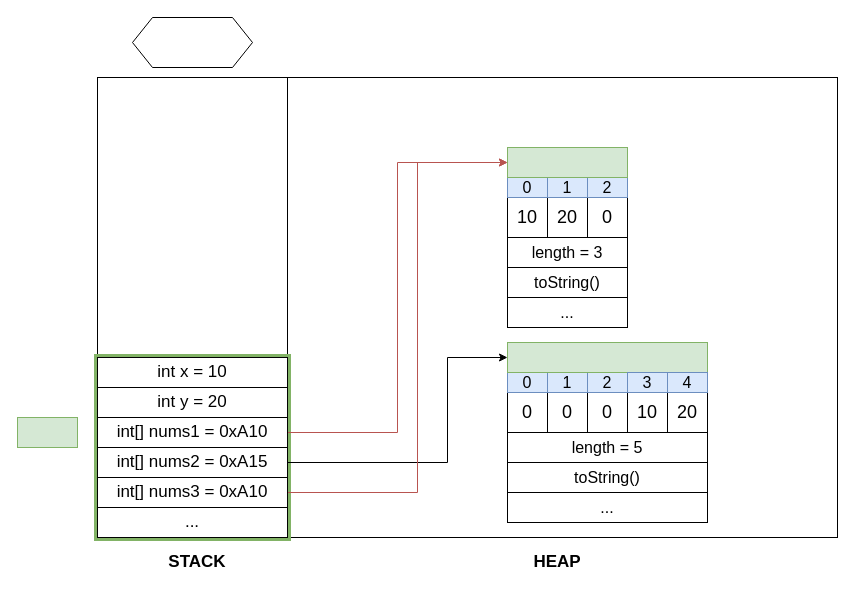
Image size: 855x595. Some labels were removed from this diagram. Each missing label, with the centre of its shape:
0xA10: point 567,162
0xA15: point 607,357
main: point 47,432
main thread: point 192,42
